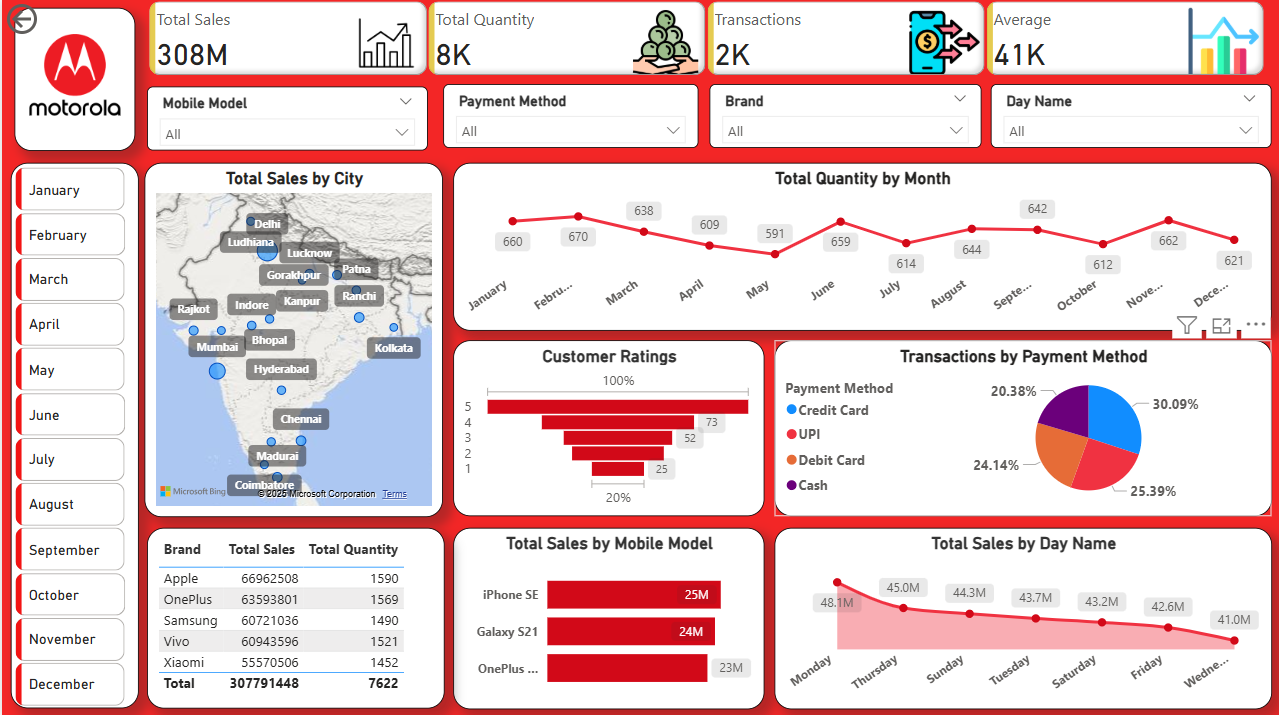

The dashboard page shown, as its layout file describes it:
{"tool":"powerbi","page":{"name":"Page 1","canvas":[1280,720],"ordinal":0},"visuals":[{"type":"shape","box":[12.5,8.3,120.8,143.1],"z":0},{"type":"shape","box":[8.3,163.9,127.8,545.8],"z":1000},{"type":"advancedSlicerVisual","fields":{"Values":["Sales_Data.Date.Variation.Date Hierarchy.Month"]},"box":[8.3,163.9,119.4,555.6],"z":2000},{"type":"image","box":[22.2,15.3,101.4,120.8],"z":3000},{"type":"actionButton","box":[0,0,100,40],"z":4000},{"type":"cardVisual","fields":{"Data":["Sales_Data.Total Sales","Sales_Data.Total Quantity","Sales_Data.Transactions","Sales_Data.Average"]},"box":[143.1,0,1126.4,76.4],"z":5000},{"type":"map","fields":{"Category":["Sales_Data.City"],"Size":["Sales_Data.Total Sales"]},"box":[143.1,163.9,298.6,354.2],"z":6000},{"type":"lineChart","fields":{"Category":["Sales_Data.Date.Variation.Date Hierarchy.Month","Sales_Data.Date.Variation.Date Hierarchy.Day"],"Y":["Sales_Data.Total Quantity"]},"box":[451.4,163.9,818.1,168.1],"z":7000},{"type":"clusteredBarChart","fields":{"Category":["Sales_Data.Mobile Model"],"Y":["Sales_Data.Total Sales"]},"box":[451.4,529.2,311.1,181.9],"z":8000},{"type":"pieChart","fields":{"Y":["Sales_Data.Transactions"],"Category":["Sales_Data.Payment Method"]},"box":[772.2,341.7,497.2,176.4],"z":9000},{"type":"funnel","title":"Customer Ratings","fields":{"Category":["Sales_Data.Customer Ratings"],"Y":["CountNonNull(Sales_Data.Customer Ratings)"]},"box":[451.4,341.7,311.1,176.4],"z":10000},{"type":"areaChart","fields":{"Category":["Sales_Data.Day Name"],"Y":["Sales_Data.Total Sales"]},"box":[772.2,529.2,497.2,181.9],"z":11000},{"type":"tableEx","fields":{"Values":["Sales_Data.Brand","Sales_Data.Total Sales","Sales_Data.Total Quantity"]},"box":[144.4,529.2,297.2,180.6],"z":12000},{"type":"slicer","fields":{"Values":["Sales_Data.Mobile Model"]},"box":[144.4,87.5,280.6,63.9],"z":13000},{"type":"slicer","fields":{"Values":["Sales_Data.Payment Method"]},"box":[441.7,84.7,255.6,63.9],"z":14000},{"type":"slicer","fields":{"Values":["Sales_Data.Brand"]},"box":[706.9,84.7,272.2,63.9],"z":15000},{"type":"slicer","fields":{"Values":["Sales_Data.Day Name"]},"box":[988.9,84.7,280.6,63.9],"z":16000}]}

Visuals, with their boxes in screenshot pixels (x1, y1, x2, y2), scaled from the page's 1280x720 canvas onto the 1279x715 screenshot:
shape: [x1=12, y1=8, x2=133, y2=150]
shape: [x1=8, y1=163, x2=136, y2=705]
advancedSlicerVisual - Sales_Data.Date.Variation.Date Hierarchy.Month: [x1=8, y1=163, x2=128, y2=714]
image: [x1=22, y1=15, x2=124, y2=135]
actionButton: [x1=0, y1=0, x2=100, y2=40]
cardVisual - Sales_Data.Total Sales x Sales_Data.Total Quantity: [x1=143, y1=0, x2=1269, y2=76]
map - Sales_Data.City x Sales_Data.Total Sales: [x1=143, y1=163, x2=441, y2=515]
lineChart - Sales_Data.Date.Variation.Date Hierarchy.Month x Sales_Data.Date.Variation.Date Hierarchy.Day: [x1=451, y1=163, x2=1269, y2=330]
clusteredBarChart - Sales_Data.Mobile Model x Sales_Data.Total Sales: [x1=451, y1=526, x2=762, y2=706]
pieChart - Sales_Data.Transactions x Sales_Data.Payment Method: [x1=772, y1=339, x2=1268, y2=515]
"Customer Ratings" funnel: [x1=451, y1=339, x2=762, y2=515]
areaChart - Sales_Data.Day Name x Sales_Data.Total Sales: [x1=772, y1=526, x2=1268, y2=706]
tableEx - Sales_Data.Brand x Sales_Data.Total Sales: [x1=144, y1=526, x2=441, y2=705]
slicer - Sales_Data.Mobile Model: [x1=144, y1=87, x2=425, y2=150]
slicer - Sales_Data.Payment Method: [x1=441, y1=84, x2=697, y2=148]
slicer - Sales_Data.Brand: [x1=706, y1=84, x2=978, y2=148]
slicer - Sales_Data.Day Name: [x1=988, y1=84, x2=1269, y2=148]
